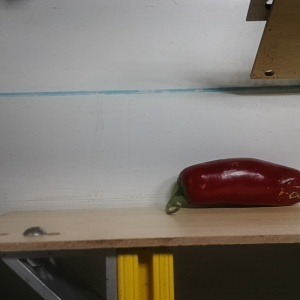Cut Point: (168, 164, 198, 208)
